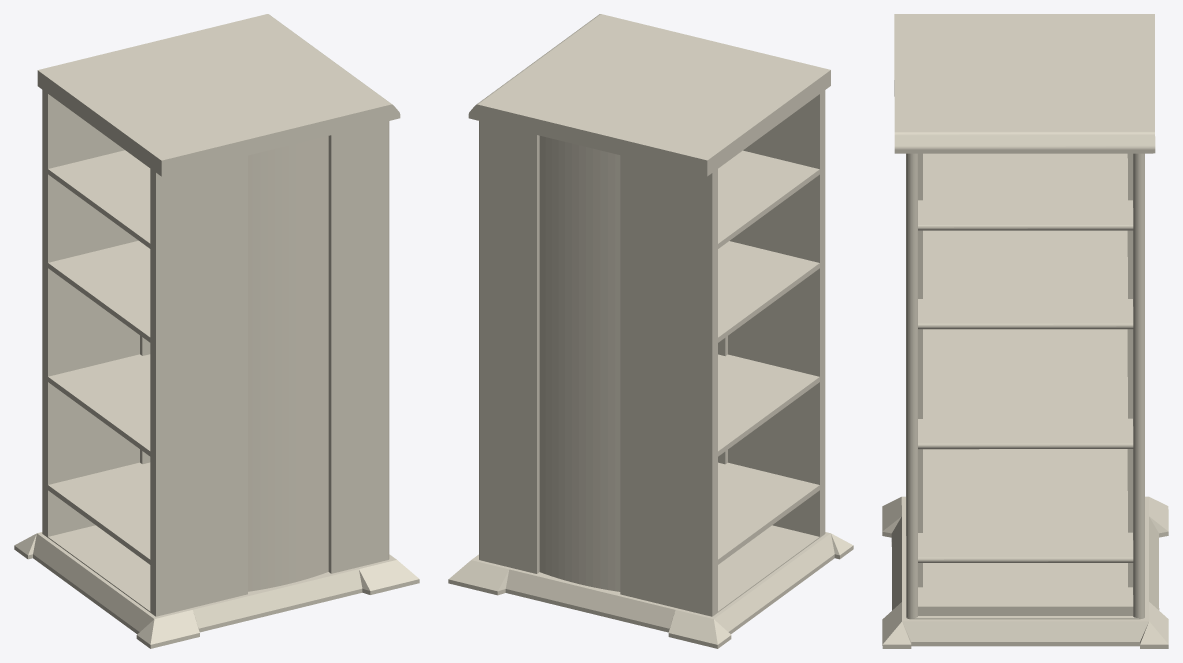
Rendered from Propo_Mesa_Estanteria_alta.fbx.
The picture shows the model from 3 angles, left to right: view 1: azimuth 30°, elevation 25°; view 2: azimuth 150°, elevation 25°; view 3: azimuth 270°, elevation 25°; orthographic projection. The views are drawn at different scales.
Visible parts, largest first — view 1: Propo_Mesa_Estanteria_alta; view 2: Propo_Mesa_Estanteria_alta; view 3: Propo_Mesa_Estanteria_alta.
Part boxes in pixels (x1,y1,x2,y2): Propo_Mesa_Estanteria_alta: (14,14,419,648); Propo_Mesa_Estanteria_alta: (448,14,853,648); Propo_Mesa_Estanteria_alta: (882,14,1168,648).
Bounding box in the file's own units: 73.56 × 125 × 64.36.
